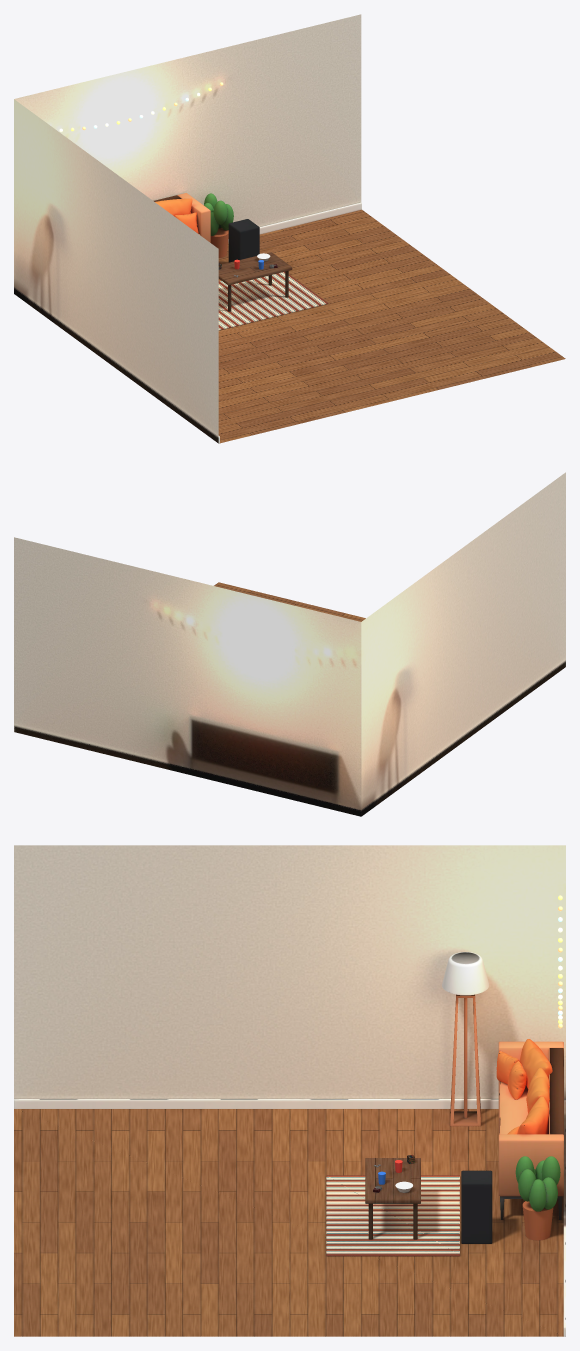
The model's file is escenario_pastillas-DVIcB7ae.glb.
3 renders of one model, top to bottom at view 1: azimuth 30°, elevation 25°; view 2: azimuth 150°, elevation 25°; view 3: azimuth 270°, elevation 25°, orthographic. The views are drawn at different scales.
Visible parts, largest first — view 1: Pared_fondo, Piso, Pared_izq, Alfombra, Mueble_Sofa, Mesa_tope, Bocina, Zocalo_fondo; view 2: Pared_fondo, Pared_izq, Piso; view 3: Pared_izq, Piso, Alfombra, Mueble_Sofa, Zocalo_izq, Mueble_CornerLight, Bocina, Mesa_tope, Maceta, Zocalo_fondo.
Boxes of the visible parts, x1,y1,x2,y2 form: Pared_fondo: [14, 14, 361, 227]; Piso: [218, 210, 565, 443]; Pared_izq: [14, 99, 218, 443]; Alfombra: [218, 271, 328, 330]; Mueble_Sofa: [154, 193, 210, 242]; Mesa_tope: [218, 252, 292, 285]; Bocina: [228, 219, 259, 262]; Zocalo_fondo: [228, 202, 361, 242]; Pared_fondo: [14, 537, 361, 816]; Pared_izq: [361, 472, 565, 816]; Piso: [214, 582, 365, 621]; Pared_izq: [14, 845, 565, 1098]; Piso: [14, 1109, 563, 1336]; Alfombra: [326, 1175, 459, 1256]; Mueble_Sofa: [496, 1039, 563, 1219]; Zocalo_izq: [14, 1099, 565, 1108]; Mueble_CornerLight: [442, 952, 489, 1126]; Bocina: [461, 1170, 492, 1243]; Mesa_tope: [365, 1158, 420, 1203]; Maceta: [522, 1201, 553, 1240]; Zocalo_fondo: [563, 1099, 565, 1336].
Bounding box in the file's own units: 4.85 × 2.6 × 4.95.
Materials: 19 (15 with a texture image).
